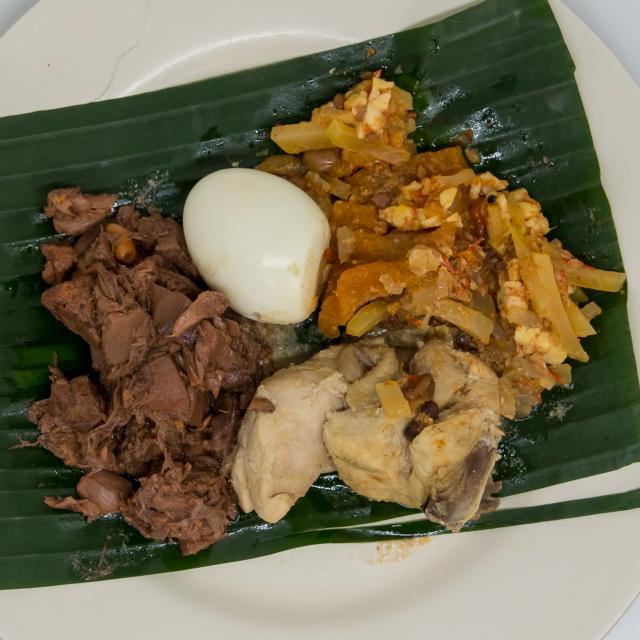Gudeg-Jogja: (11, 58, 630, 575)
